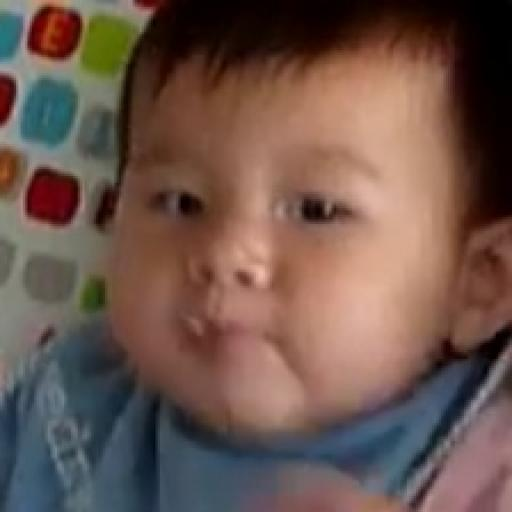Autism: (87, 2, 512, 446)
